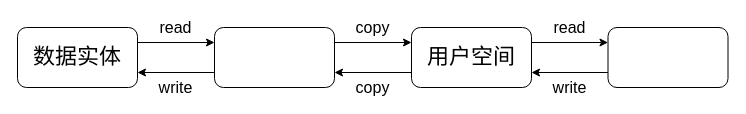
Image size: 746x114. Some labels were removed from this diagram. Here are the shapes that lost their labels. From the top down, the centre of each, then its label:
At point 274,57: "内核空间".
At point 667,57: "应用程序".
